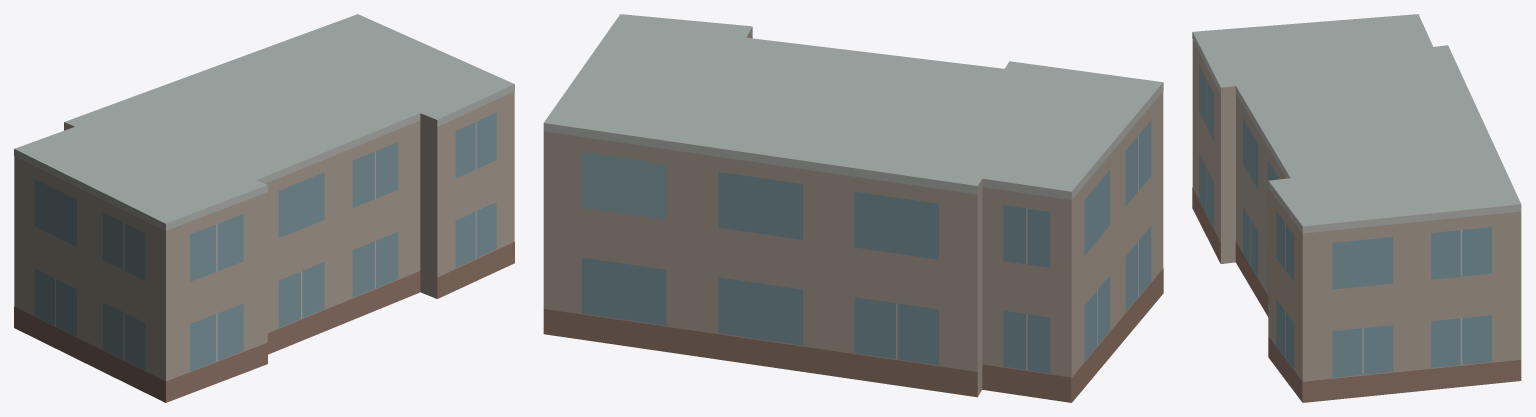
Rendered from survey-upis-32760304.glb.
The picture shows the model from 3 angles, left to right: view 1: azimuth 30°, elevation 25°; view 2: azimuth 150°, elevation 25°; view 3: azimuth 270°, elevation 25°; orthographic projection. The views are drawn at different scales.
Visible parts, largest first — view 1: survey-upis-32760304.tmp; view 2: survey-upis-32760304.tmp; view 3: survey-upis-32760304.tmp.
Part boxes in pixels (<box>): survey-upis-32760304.tmp: <box>14,14,514,402</box>; survey-upis-32760304.tmp: <box>543,14,1163,402</box>; survey-upis-32760304.tmp: <box>1192,14,1521,402</box>.
Size of the model in its own units: 15.76 by 6.1 by 10.32.
